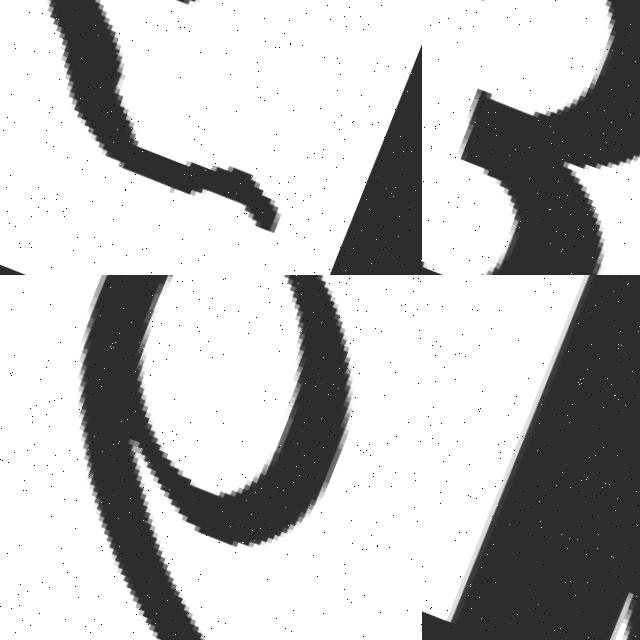3: (422, 0, 640, 275)
6: (0, 275, 422, 640)
B: (46, 0, 285, 233)
R: (422, 275, 640, 640)
